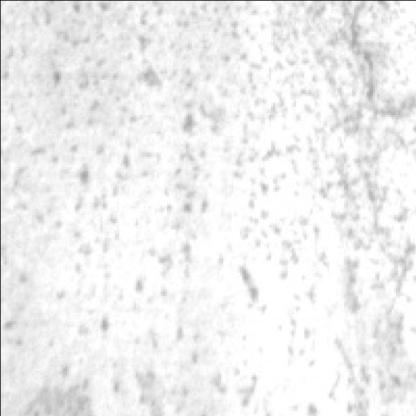pitted_surface: (6, 12, 316, 416), (300, 6, 414, 370)
